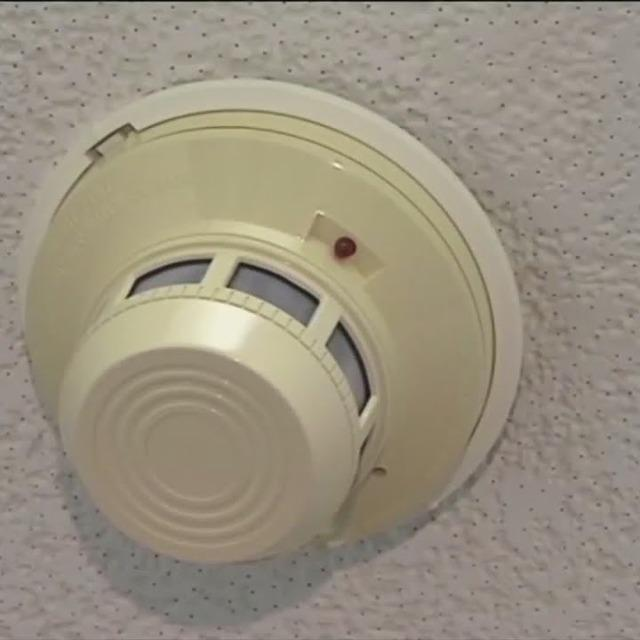Smoke-Detector: (18, 83, 522, 564)
